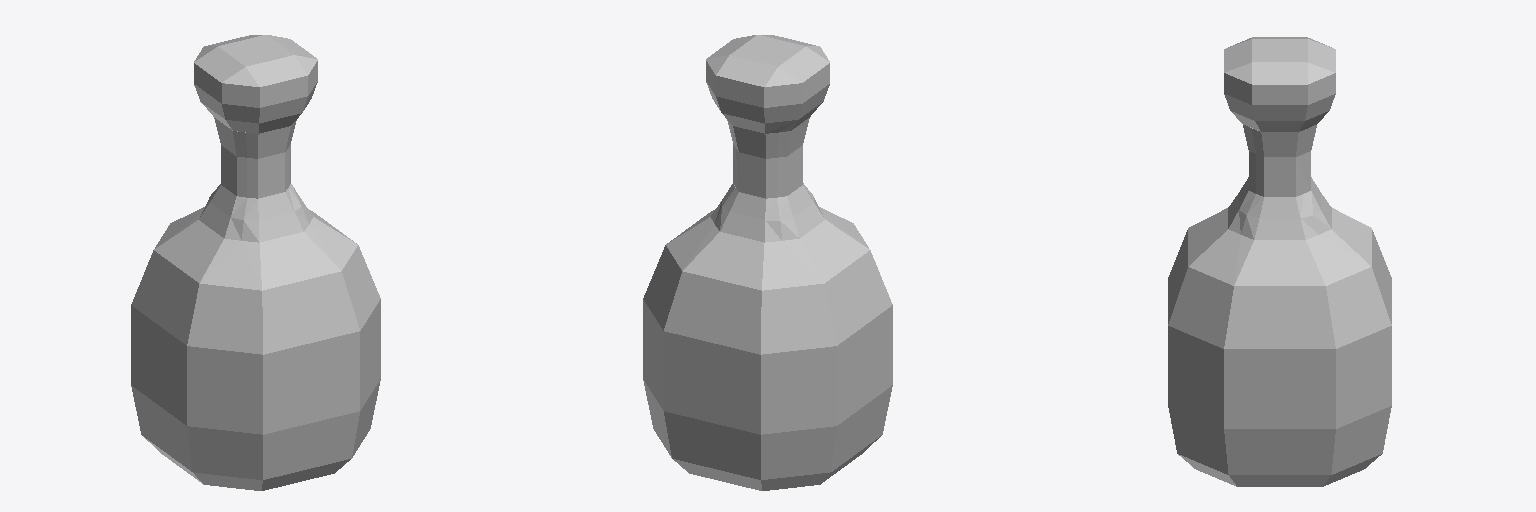
File: PotionVase.obj
3 views of the same model, side by side, from view 1: azimuth 30°, elevation 25°; view 2: azimuth 150°, elevation 25°; view 3: azimuth 270°, elevation 25° (orthographic).
Visible parts, largest first — view 1: Cube; view 2: Cube; view 3: Cube.
Part boxes in pixels (x1,y1,x2,y2): Cube: (131, 35, 380, 490); Cube: (643, 35, 892, 490); Cube: (1168, 37, 1391, 486).
Size of the model in its own units: 0.4932 by 0.9984 by 0.4932.